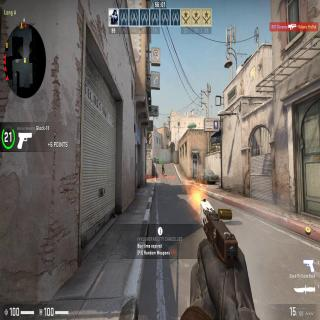CT-Head: (161, 162, 165, 175), (162, 163, 164, 166)
